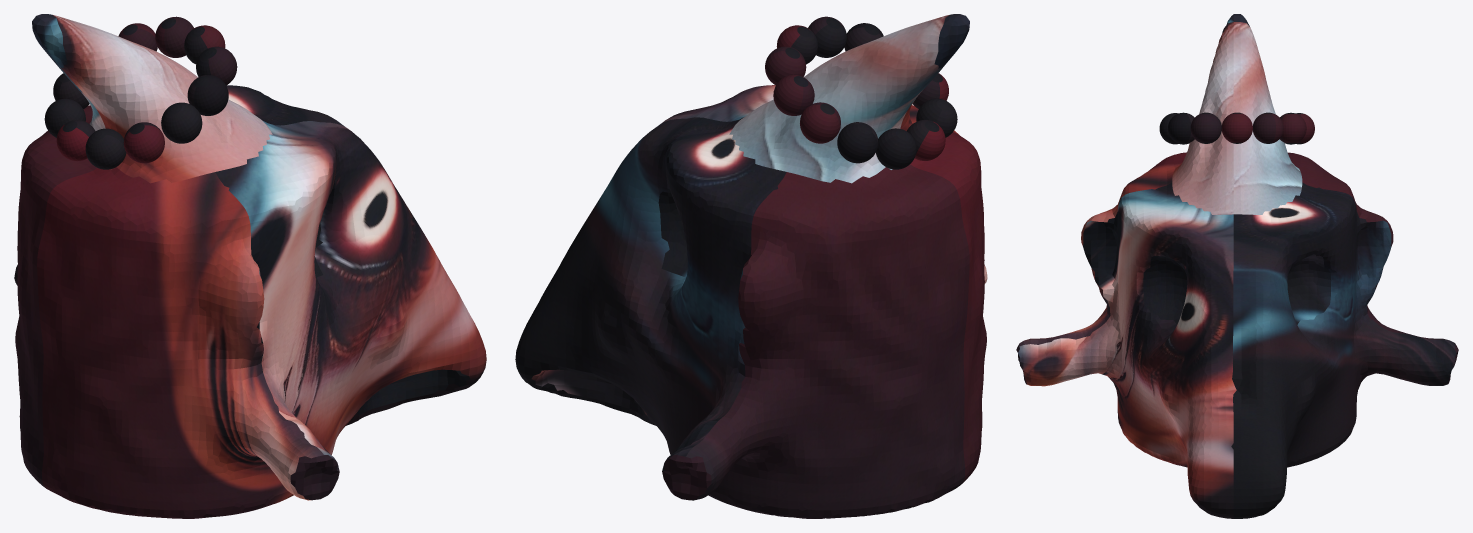
Rendered from Moving Enemy.fbx.
3 renders of one model, left to right at view 1: azimuth 30°, elevation 25°; view 2: azimuth 150°, elevation 25°; view 3: azimuth 270°, elevation 25°, orthographic. The views are drawn at different scales.
Visible parts, largest first — view 1: Moving Enemy LP; view 2: Moving Enemy LP; view 3: Moving Enemy LP.
Part boxes in pixels (x1=…): Moving Enemy LP: x1=14, y1=14, x2=486, y2=518; Moving Enemy LP: x1=515, y1=14, x2=987, y2=518; Moving Enemy LP: x1=1016, y1=14, x2=1458, y2=518.
Size of the model in its own units: 758 by 883 by 796.
